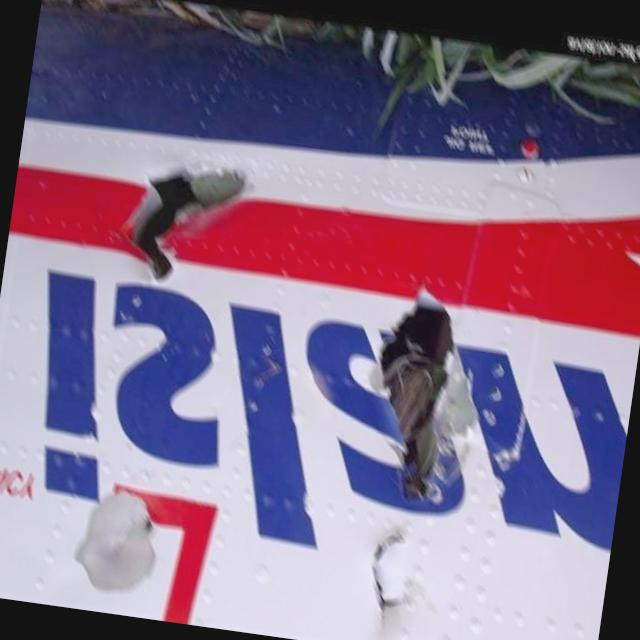crack: (354, 284, 474, 510), (114, 149, 252, 295), (358, 518, 417, 640), (128, 510, 162, 546)
